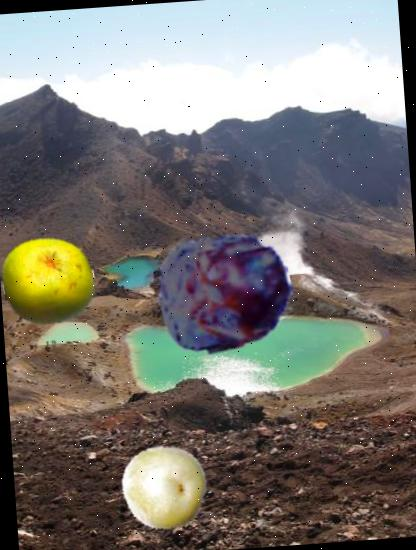Dates: (155, 222, 296, 364)
Maracuja: (118, 440, 212, 534)
Pomelo: (0, 231, 97, 329)
